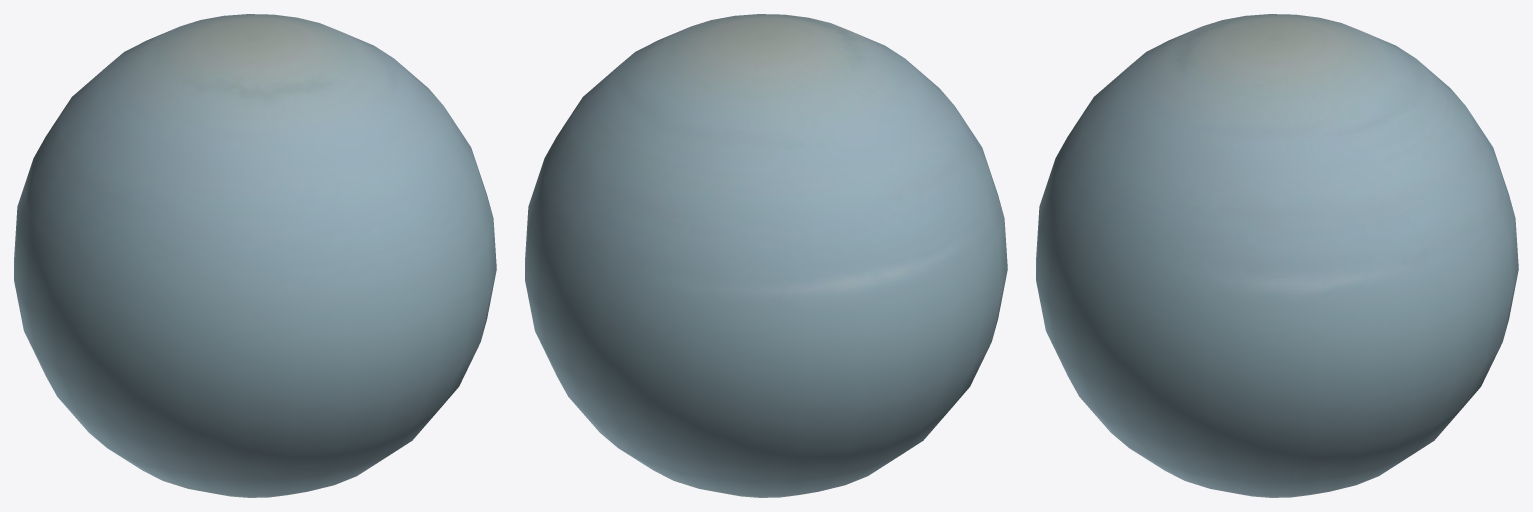
The model's file is uranus.FBX.
3 renders of one model, left to right at view 1: azimuth 30°, elevation 25°; view 2: azimuth 150°, elevation 25°; view 3: azimuth 270°, elevation 25°, orthographic.
Visible parts, largest first — view 1: Sun; view 2: Sun; view 3: Sun.
Part boxes in pixels (box(x1,y1,x2,y2)): Sun: box(14, 14, 496, 497); Sun: box(525, 14, 1007, 497); Sun: box(1036, 14, 1518, 497).
Bounding box in the file's own units: 11.07 × 11.11 × 11.05.
1 material, 1 textured.
